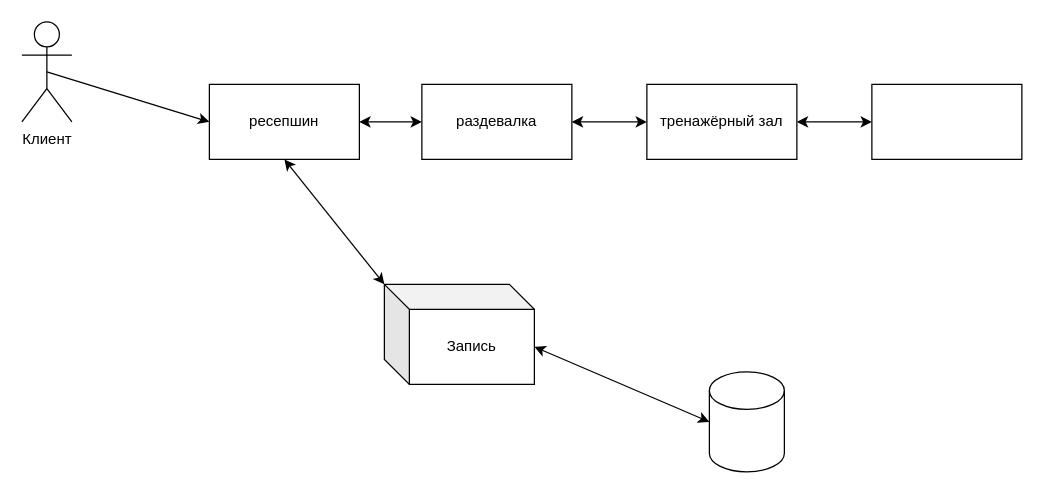
The diagram is 1044 pixels wide and 494 high, and some of its shapes have lost their labels. Each missing label, with the centre of its shape:
"база данных" belongs at (x=746, y=421).
"тренер" belongs at (x=946, y=121).
